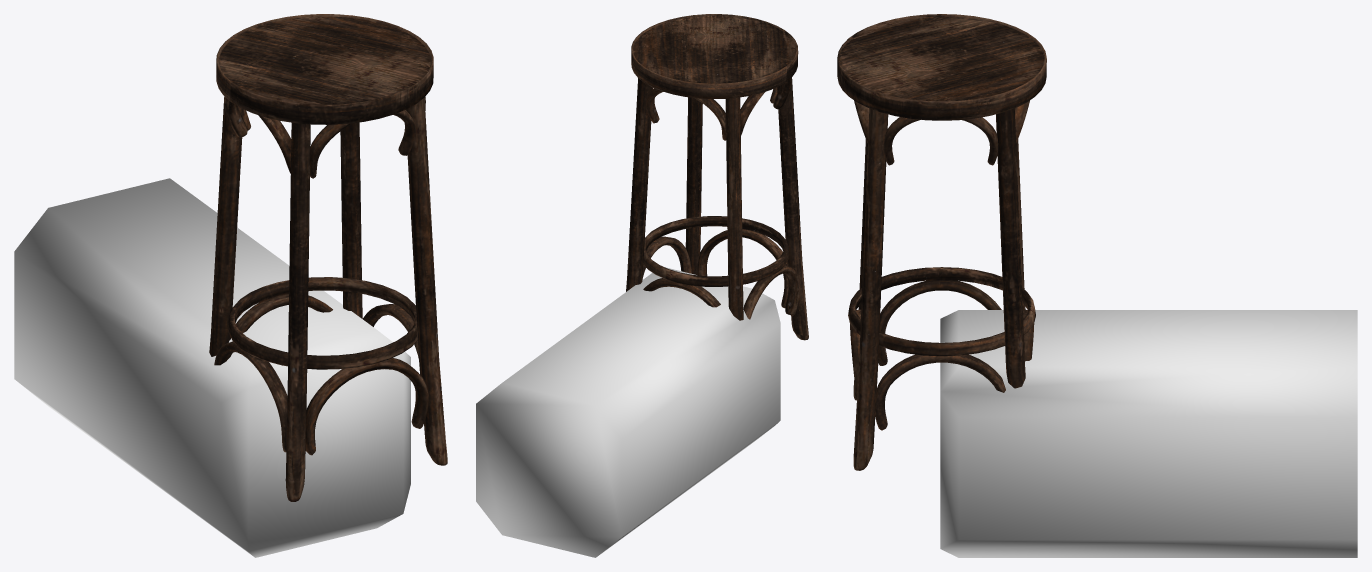
The model's file is SM_BarStool.fbx.
3 renders of one model, left to right at view 1: azimuth 30°, elevation 25°; view 2: azimuth 150°, elevation 25°; view 3: azimuth 270°, elevation 25°, orthographic. The views are drawn at different scales.
Visible parts, largest first — view 1: SM_BarStool_ConvexHulls, SM_BarStool; view 2: SM_BarStool_ConvexHulls, SM_BarStool; view 3: SM_BarStool_ConvexHulls, SM_BarStool.
Boxes of the visible parts, box(x1,y1,x2,y2) form: SM_BarStool_ConvexHulls: box(14, 178, 410, 557); SM_BarStool: box(209, 14, 447, 501); SM_BarStool_ConvexHulls: box(476, 267, 780, 557); SM_BarStool: box(626, 14, 808, 340); SM_BarStool_ConvexHulls: box(940, 310, 1357, 557); SM_BarStool: box(837, 14, 1046, 470).
Bounding box in the file's own units: 0.3777 × 0.9329 × 0.9328.
